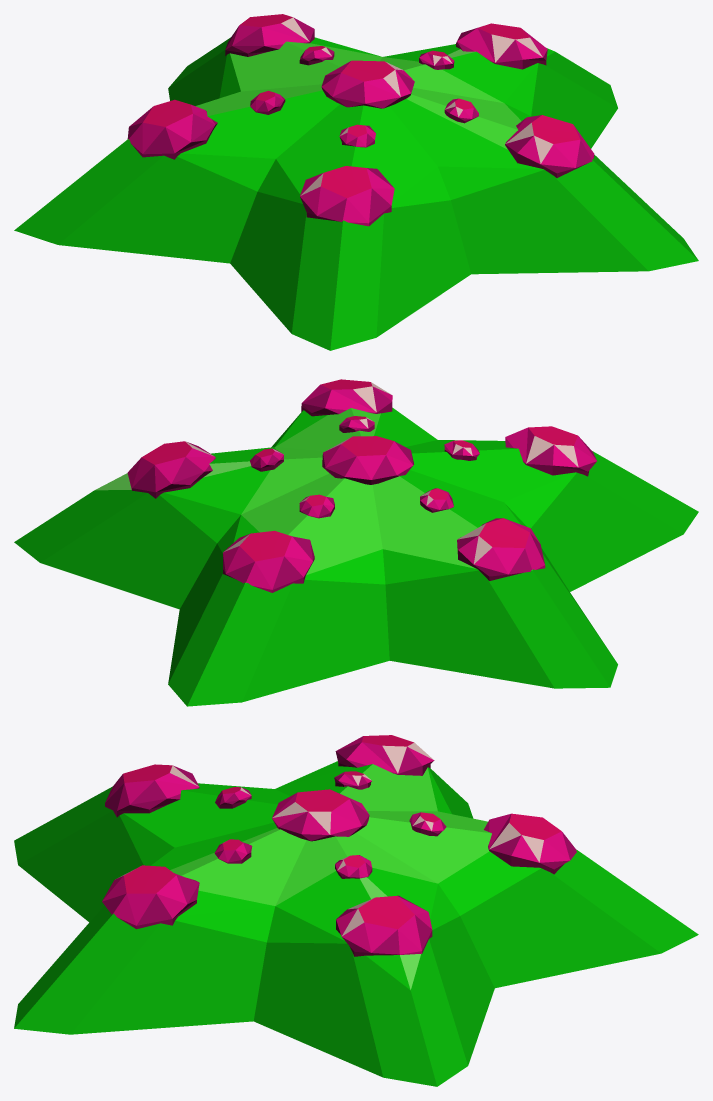
File: starfish_green.fbx
3 views of the same model, one above another, from view 1: azimuth 30°, elevation 25°; view 2: azimuth 150°, elevation 25°; view 3: azimuth 270°, elevation 25° (orthographic). The views are drawn at different scales.
Parts seen in each view (by area): view 1: starfish_green; view 2: starfish_green; view 3: starfish_green.
Part boxes in pixels (x1=…): starfish_green: x1=14, y1=14, x2=698, y2=350; starfish_green: x1=14, y1=379, x2=698, y2=706; starfish_green: x1=14, y1=735, x2=698, y2=1086.
Size of the model in its own units: 0.7089 by 0.1461 by 0.6742.
